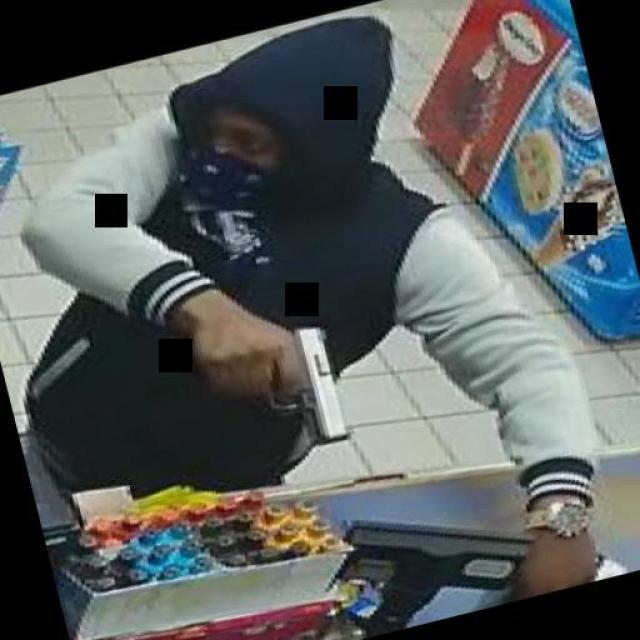gun: (189, 311, 356, 469)
